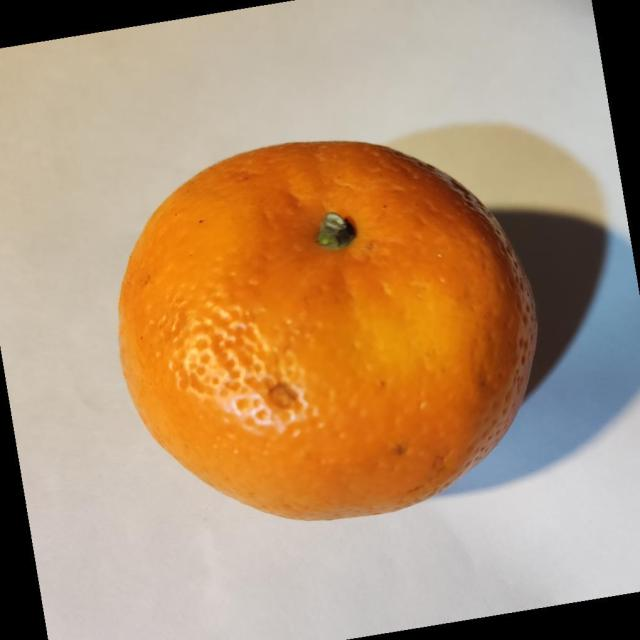fresh orange: (117, 139, 538, 521)
